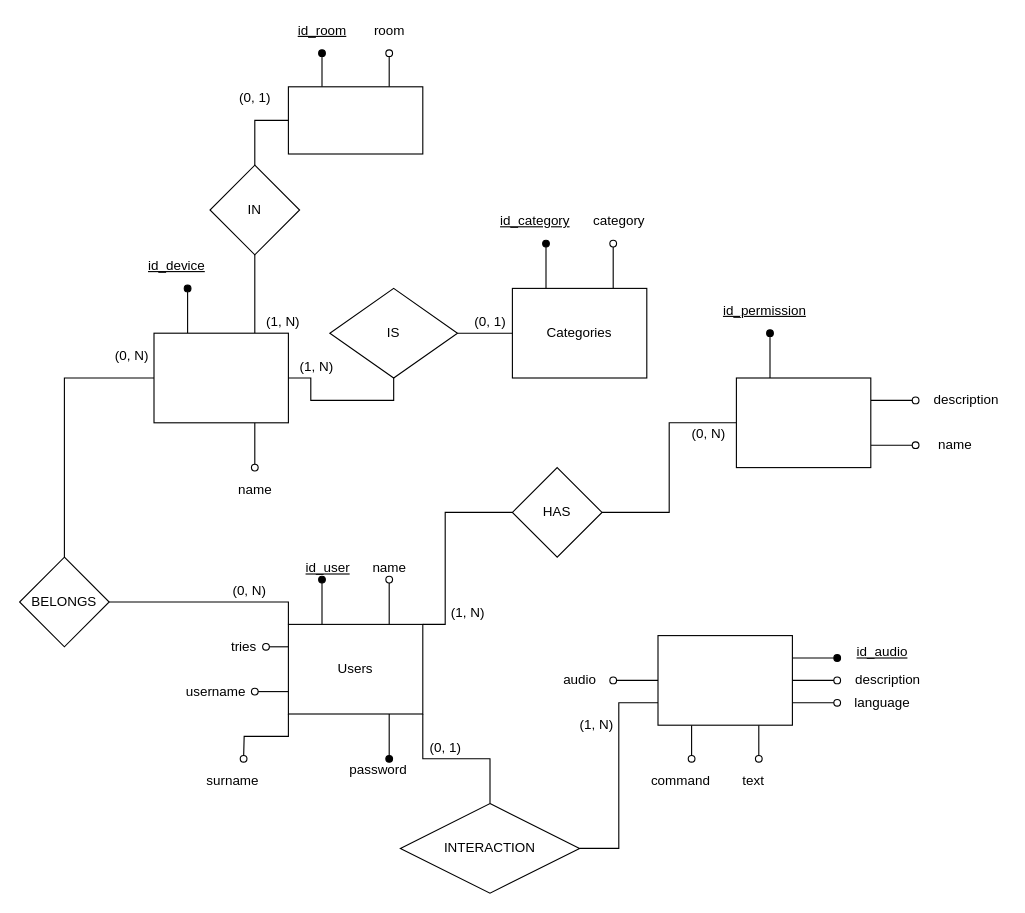
The diagram is 1025 pixels wide and 913 high, and some of its shapes have lost their labels. Here are the shapes that lost their labels. From the top down, the centre of each, then its label:
pixel 355 120: Rooms
pixel 220 377: Devices
pixel 803 422: Permissions
pixel 724 679: Commands
